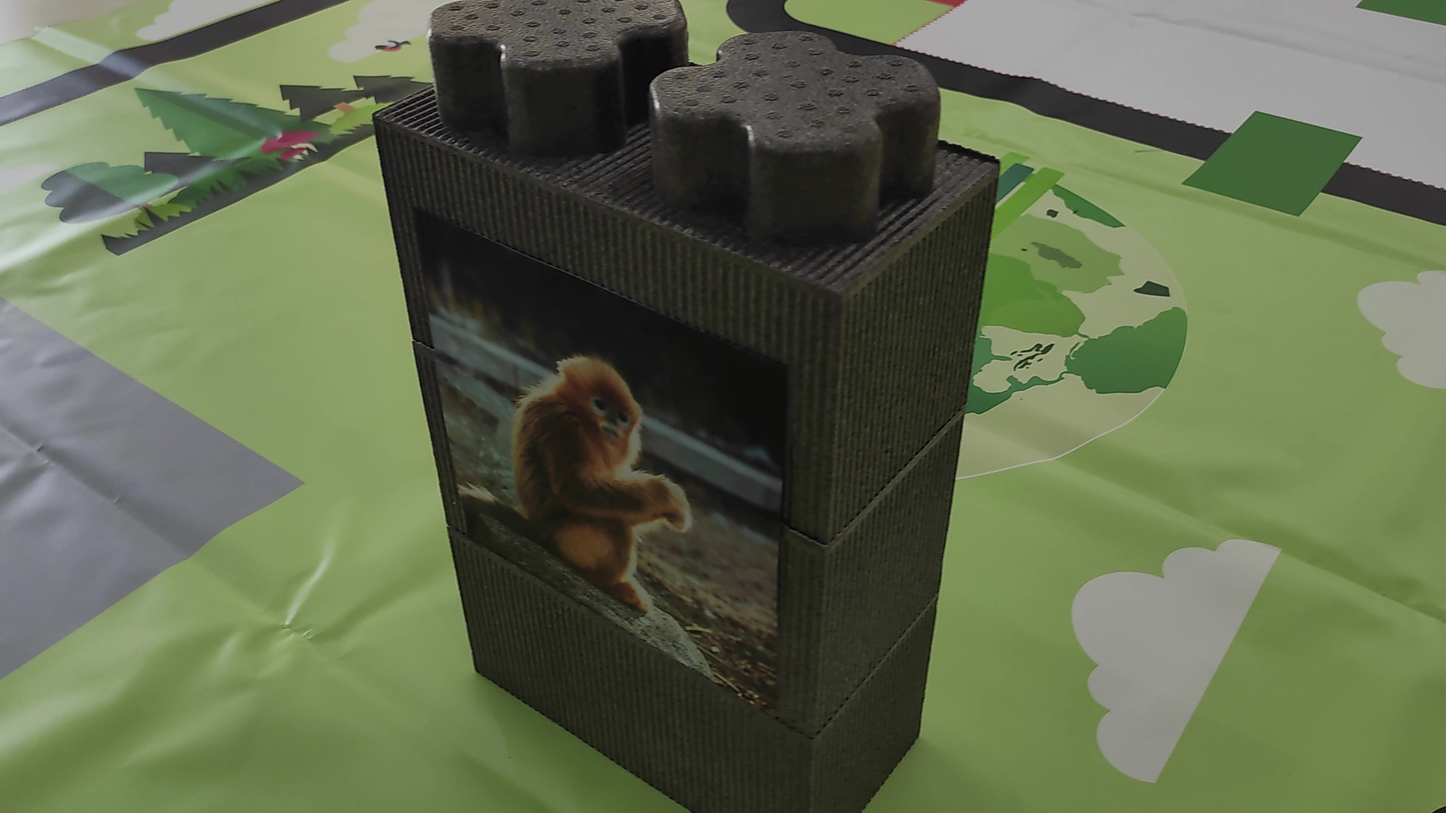monkey: (482, 339, 701, 614)
